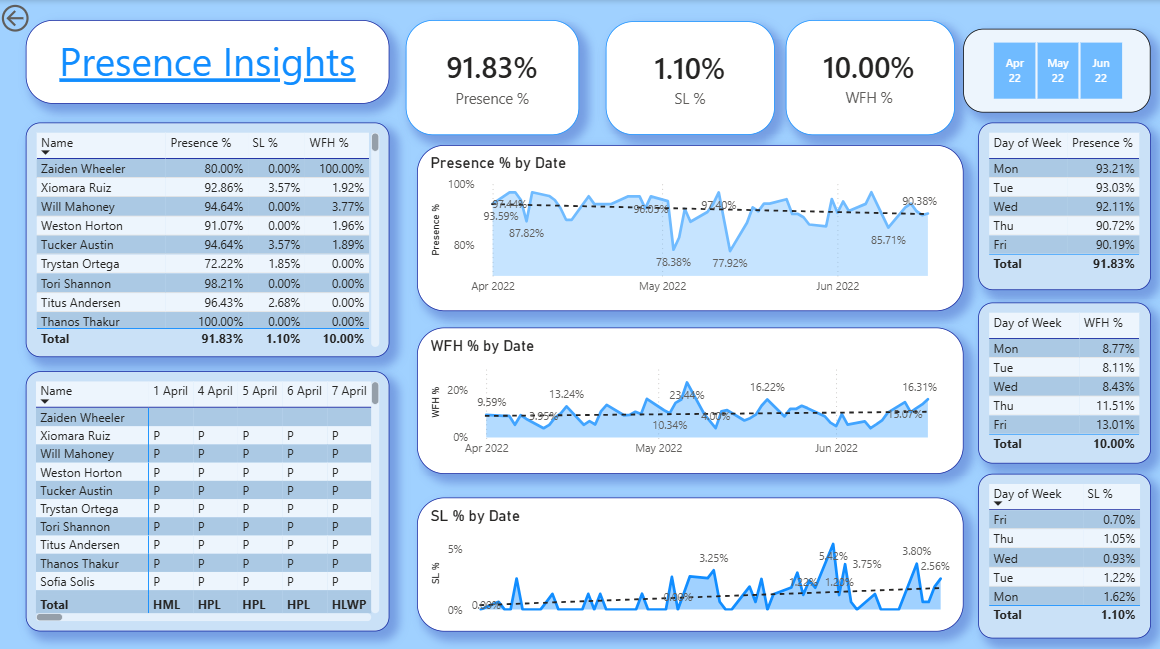

What the dashboard file says about the page in this screenshot:
{"tool":"powerbi","page":{"name":"Page 1","canvas":[1280,720],"ordinal":0},"visuals":[{"type":"cardVisual","fields":{"Data":["Measure Table.Presence %"]},"box":[448.7,22,190.7,126.2],"z":0},{"type":"cardVisual","fields":{"Data":["Measure Table.SL %"]},"box":[668.3,23.3,185.2,124.9],"z":1000},{"type":"cardVisual","fields":{"Data":["Measure Table.WFH %"]},"box":[865.9,22,185.2,126.2],"z":2000},{"type":"slicer","fields":{"Values":["Combined Data.Month"]},"box":[1060.7,31.6,205.8,91.9],"z":3000},{"type":"tableEx","fields":{"Values":["Combined Data.Name","Measure Table.Presence %","Measure Table.SL %","Measure Table.WFH %"]},"box":[31.6,134.5,399.3,258],"z":4000},{"type":"pivotTable","fields":{"Rows":["Combined Data.Name"],"Columns":["Combined Data.Date"],"Values":["Min(Combined Data.Value)"]},"box":[31.6,407.5,399.3,285.4],"z":5000},{"type":"areaChart","fields":{"Y":["Measure Table.Presence %"],"Category":["Combined Data.Date"]},"box":[461.1,159.2,599.7,182.5],"z":6000},{"type":"areaChart","fields":{"Category":["Combined Data.Date"],"Y":["Measure Table.WFH %"]},"box":[461.1,359.5,599.7,160.5],"z":7000},{"type":"areaChart","fields":{"Category":["Combined Data.Date"],"Y":["Measure Table.SL %"]},"box":[461.1,546.1,599.7,146.8],"z":8000},{"type":"textbox","box":[31.6,22,399.3,91.9],"z":9000},{"type":"tableEx","fields":{"Values":["Combined Data.Day of Week","Measure Table.Presence %"]},"box":[1077.2,134.5,189.4,183.9],"z":10000},{"type":"actionButton","box":[0,0,100,40],"z":11000},{"type":"tableEx","fields":{"Values":["Combined Data.Day of Week","Measure Table.WFH %"]},"box":[1077.2,332.1,189.4,177],"z":12000},{"type":"tableEx","fields":{"Values":["Combined Data.Day of Week","Measure Table.SL %"]},"box":[1077.2,520.1,189.4,181.1],"z":13000}]}

Visuals, with their boxes in screenshot pixels (x1, y1, x2, y2), scaled from the page's 1280x720 canvas onto the 1160x649 screenshot:
cardVisual - Measure Table.Presence %: x1=407, y1=20, x2=579, y2=134
cardVisual - Measure Table.SL %: x1=606, y1=21, x2=773, y2=134
cardVisual - Measure Table.WFH %: x1=785, y1=20, x2=953, y2=134
slicer - Combined Data.Month: x1=961, y1=28, x2=1148, y2=111
tableEx - Combined Data.Name x Measure Table.Presence %: x1=29, y1=121, x2=391, y2=354
pivotTable - Combined Data.Name x Combined Data.Date: x1=29, y1=367, x2=391, y2=625
areaChart - Measure Table.Presence % x Combined Data.Date: x1=418, y1=144, x2=961, y2=308
areaChart - Combined Data.Date x Measure Table.WFH %: x1=418, y1=324, x2=961, y2=469
areaChart - Combined Data.Date x Measure Table.SL %: x1=418, y1=492, x2=961, y2=625
textbox: x1=29, y1=20, x2=391, y2=103
tableEx - Combined Data.Day of Week x Measure Table.Presence %: x1=976, y1=121, x2=1148, y2=287
actionButton: x1=0, y1=0, x2=91, y2=36
tableEx - Combined Data.Day of Week x Measure Table.WFH %: x1=976, y1=299, x2=1148, y2=459
tableEx - Combined Data.Day of Week x Measure Table.SL %: x1=976, y1=469, x2=1148, y2=632
